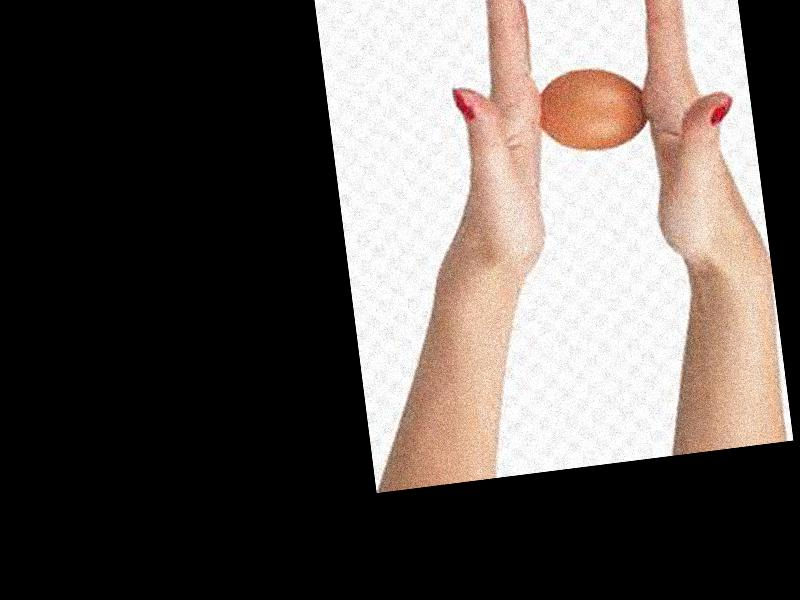Eggs: (534, 65, 649, 156)
